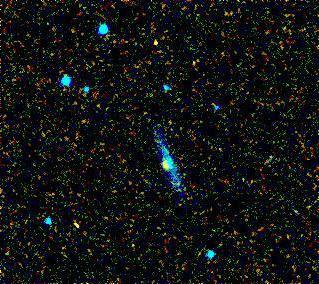star: (152, 149, 182, 179)
